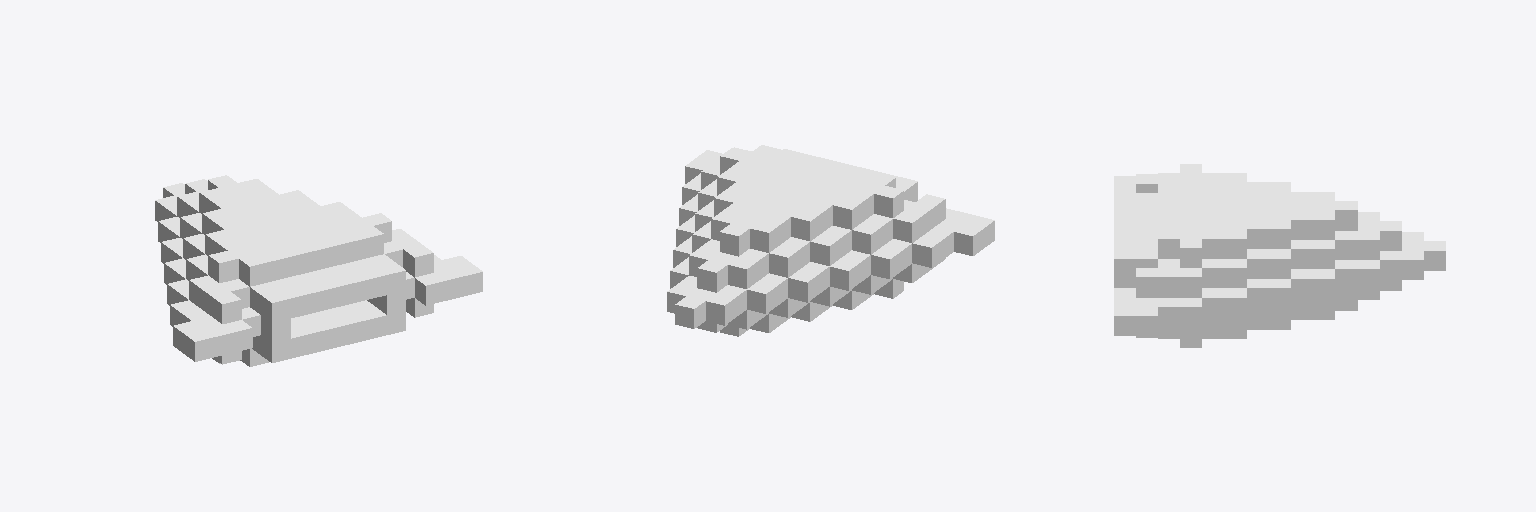
File: AsteroidShip.obj
The picture shows the model from 3 angles: view 1: azimuth 30°, elevation 25°; view 2: azimuth 150°, elevation 25°; view 3: azimuth 270°, elevation 25°; orthographic projection.
Parts seen in each view (by area): view 1: object 1; view 2: object 1; view 3: object 1.
Boxes of the visible parts, x1,y1,x2,y2 form: object 1: [155, 175, 482, 366]; object 1: [667, 145, 994, 336]; object 1: [1114, 164, 1445, 347].
Bounding box in the file's own units: 1.5 × 0.5 × 1.5.